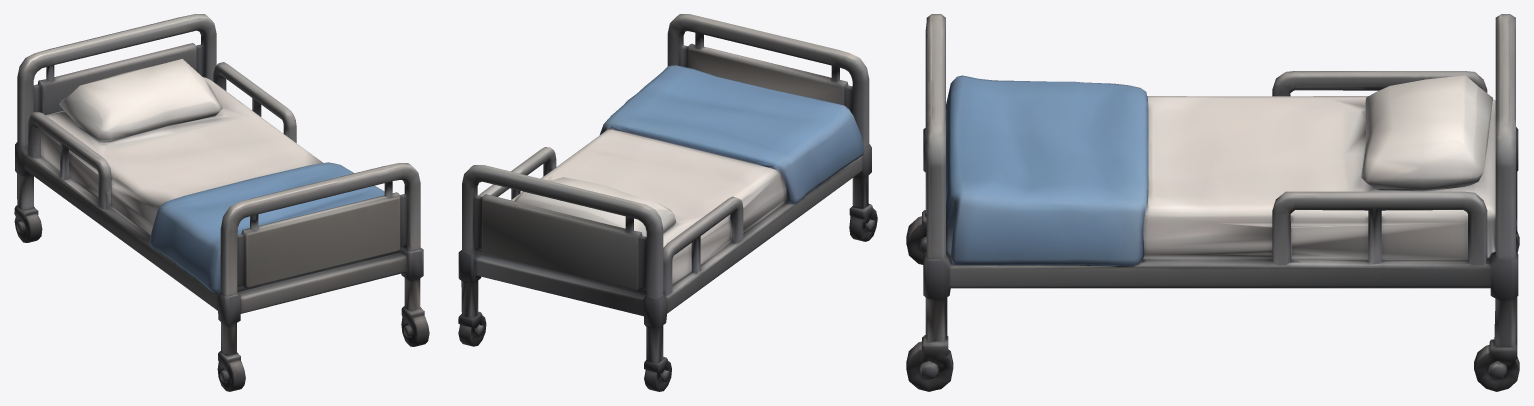
The model's file is bed.glb.
3 renders of one model, left to right at view 1: azimuth 30°, elevation 25°; view 2: azimuth 150°, elevation 25°; view 3: azimuth 270°, elevation 25°, orthographic. The views are drawn at different scales.
Visible parts, largest first — view 1: tripo_node_46f90f91-f731-49a6-9395-0cf260fc85ae; view 2: tripo_node_46f90f91-f731-49a6-9395-0cf260fc85ae; view 3: tripo_node_46f90f91-f731-49a6-9395-0cf260fc85ae.
Part boxes in pixels (x1,y1,x2,y2): tripo_node_46f90f91-f731-49a6-9395-0cf260fc85ae: [14, 14, 429, 391]; tripo_node_46f90f91-f731-49a6-9395-0cf260fc85ae: [458, 14, 877, 391]; tripo_node_46f90f91-f731-49a6-9395-0cf260fc85ae: [906, 14, 1519, 391].
Size of the model in its own units: 0.5332 by 0.459 by 0.998.
1 material, 1 textured.
